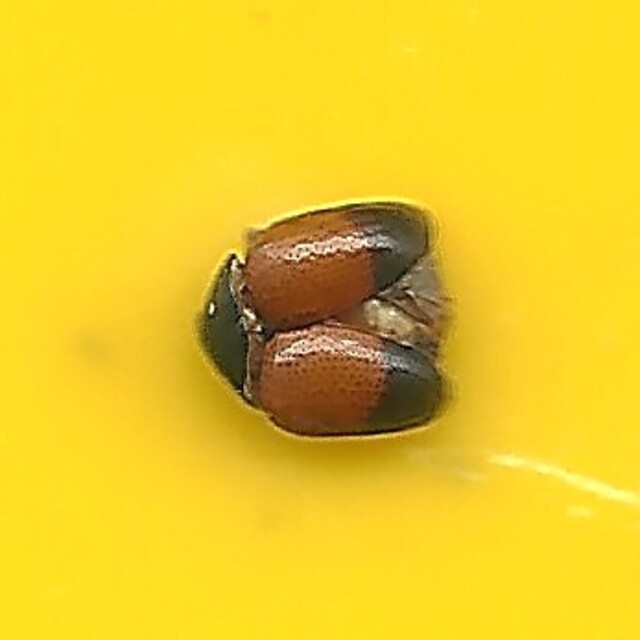Coleoptera: (184, 192, 456, 448)
